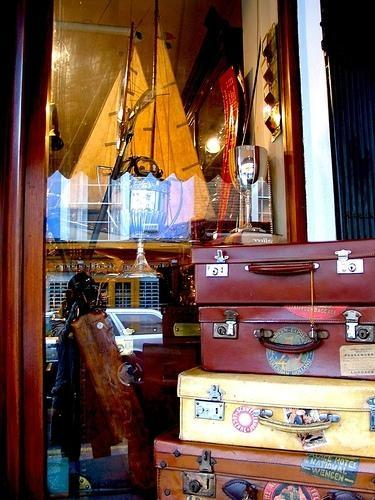car: (106, 307, 164, 350), (44, 311, 64, 390)
